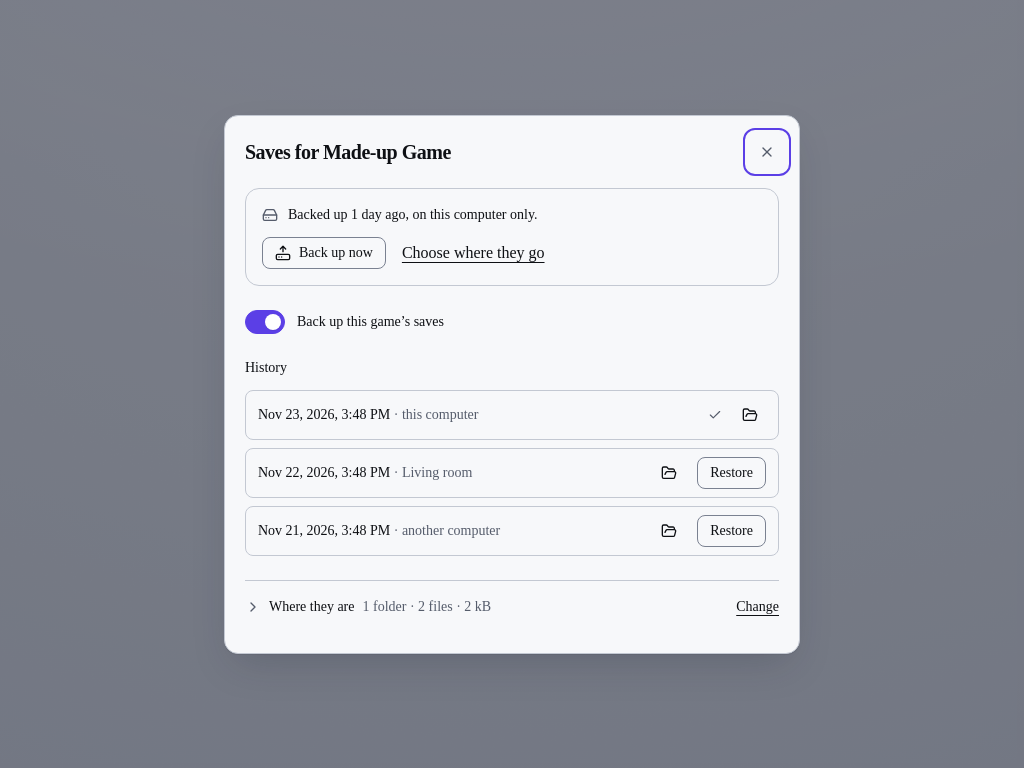
Test: a game’s saves › say where they were found, and count the places with nothing there
Expected: the switch labelled "Back up this game’s saves" is shown, [245, 310, 285, 334]
Expected: the text "Where they are" shows "1 folder · 2 files · 2 kB", [362, 598, 491, 614]
Click the text "Where they are" at (312, 606), box [269, 596, 354, 616]
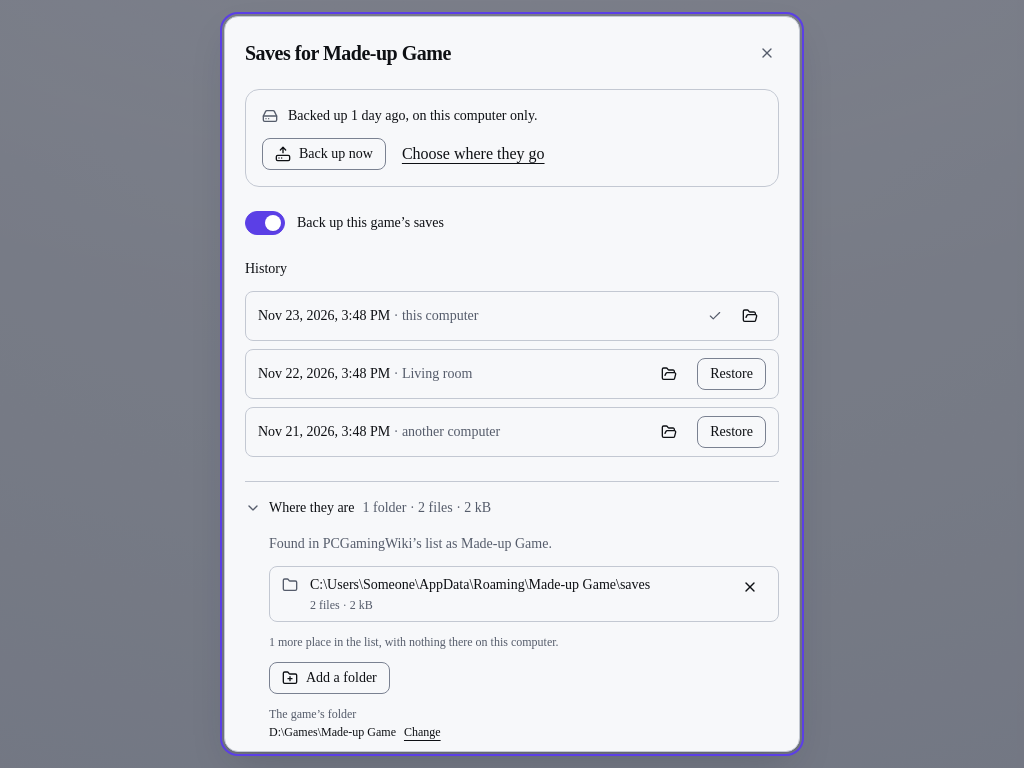
Result: the text "C:\\Users\\Someone\\AppData\\Roaming\\Made-up Game\\saves" is shown at [310, 577, 650, 592]
Result: the text "1 more place in the list" is shown at [269, 635, 559, 649]
Result: the text "Found in PCGamingWiki’s list as Made-up Game." is shown at [269, 534, 552, 554]
